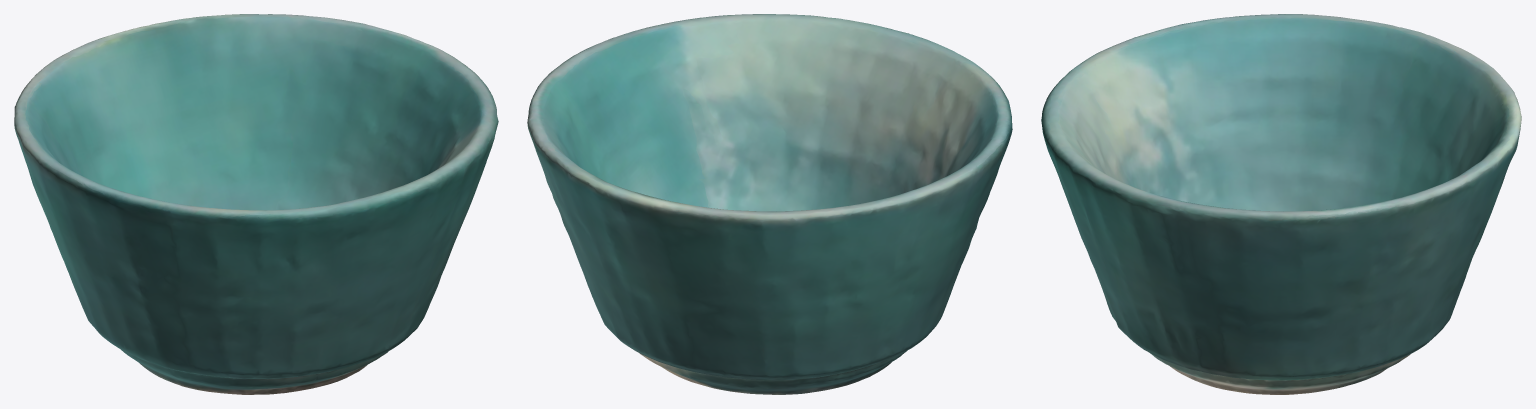
Rendered from Room_Essentials_Bowl_Turquiose.glb.
The picture shows the model from 3 angles, left to right: view 1: azimuth 30°, elevation 25°; view 2: azimuth 150°, elevation 25°; view 3: azimuth 270°, elevation 25°; orthographic projection.
Parts seen in each view (by area): view 1: geometry_0; view 2: geometry_0; view 3: geometry_0.
Boxes of the visible parts, box(x1,y1,x2,y2) form: geometry_0: box(14, 14, 498, 394); geometry_0: box(527, 14, 1012, 394); geometry_0: box(1041, 14, 1521, 394).
Size of the model in its own units: 0.9993 by 0.5234 by 0.9909.
Materials: 1 (1 with a texture image).
